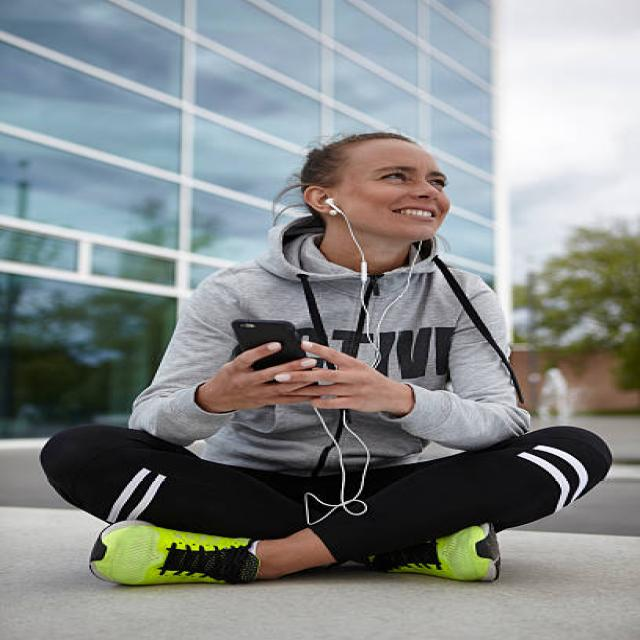Earphone: (326, 197, 424, 518)
